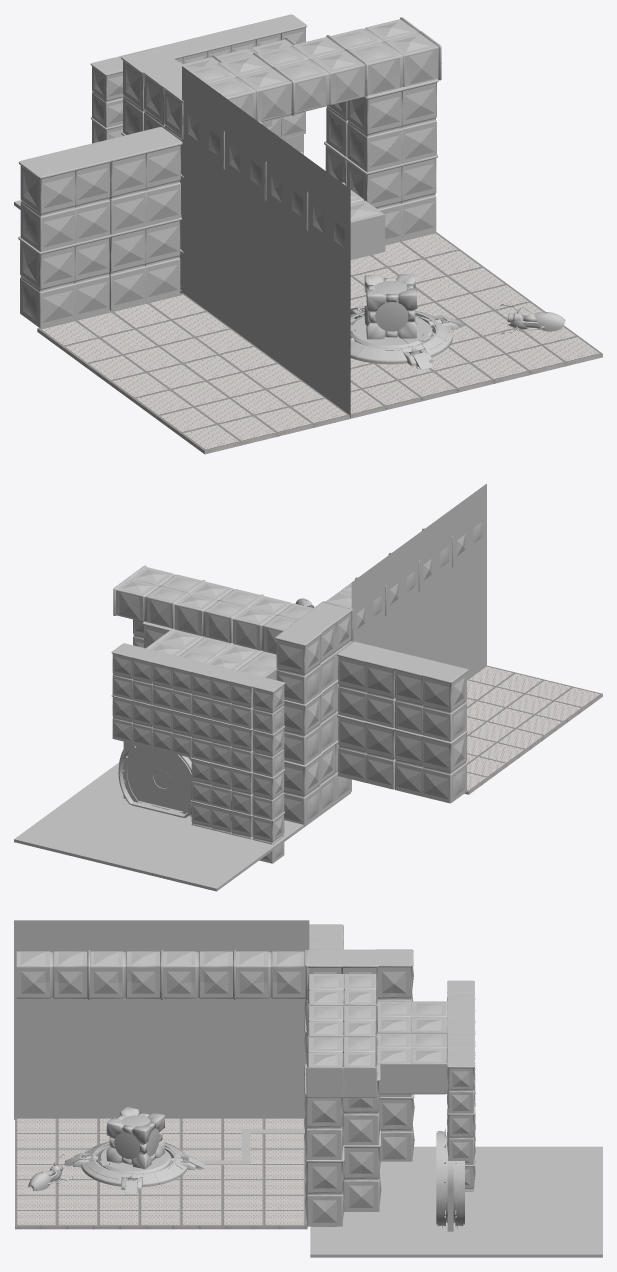
File: floor1old.obj
The picture shows the model from 3 angles, top to bottom: view 1: azimuth 30°, elevation 25°; view 2: azimuth 150°, elevation 25°; view 3: azimuth 270°, elevation 25°; orthographic projection. The views are drawn at different scales.
Parts seen in each view (by area): view 1: Cube.001, Plane, Box001.060, Box001.059, Box001.002, Box001.010, Box001.011, Box001.056, Box001.058, Box001.054, Box001.012, portal_button_reduced_2 (+27 smaller); view 2: Plane, Cube.002, Cube.001, Object_8, Box001.060, Box001.047, Box001.059, Box001.014, Box001.015, Box001.054, Box001.028, Box001.027 (+40 smaller); view 3: Plane, Cube.001, Cube.002, Box001.029, Box001.025, Box001.024, Box001.023, portal_button_reduced_2, Box001, Box001.020, Box001.003, Object_8 (+23 smaller).
Boxes of the visible parts, x1=… form: Cube.001: x1=37, y1=231, x2=602, y2=454; Plane: x1=182, y1=66, x2=350, y2=417; Box001.060: x1=18, y1=152, x2=76, y2=251; Box001.059: x1=18, y1=236, x2=75, y2=327; Box001.002: x1=347, y1=88, x2=402, y2=172; Box001.010: x1=349, y1=31, x2=441, y2=95; Box001.011: x1=276, y1=48, x2=367, y2=113; Box001.056: x1=90, y1=135, x2=146, y2=234; Box001.058: x1=54, y1=144, x2=111, y2=243; Box001.054: x1=125, y1=127, x2=182, y2=226; Box001.012: x1=210, y1=66, x2=294, y2=121; portal_button_reduced_2: x1=350, y1=306, x2=464, y2=369; Plane: x1=351, y1=483, x2=486, y2=679; Cube.002: x1=14, y1=762, x2=350, y2=891; Cube.001: x1=261, y1=650, x2=602, y2=794; Object_8: x1=118, y1=741, x2=191, y2=817; Box001.060: x1=422, y1=662, x2=468, y2=741; Box001.047: x1=275, y1=625, x2=322, y2=704; Box001.059: x1=422, y1=730, x2=468, y2=803; Box001.014: x1=113, y1=577, x2=185, y2=628; Box001.015: x1=172, y1=591, x2=244, y2=642; Box001.054: x1=337, y1=641, x2=382, y2=721; Box001.028: x1=284, y1=692, x2=322, y2=765; Box001.027: x1=283, y1=753, x2=322, y2=826; Plane: x1=14, y1=920, x2=309, y2=1119; Cube.001: x1=15, y1=1118, x2=307, y2=1229; Cube.002: x1=310, y1=1146, x2=602, y2=1257; Box001.029: x1=16, y1=950, x2=90, y2=999; Box001.025: x1=90, y1=950, x2=162, y2=999; Box001.024: x1=163, y1=950, x2=235, y2=999; Box001.023: x1=236, y1=950, x2=308, y2=999; portal_button_reduced_2: x1=64, y1=1141, x2=204, y2=1194; Box001: x1=305, y1=1145, x2=344, y2=1226; Box001.020: x1=343, y1=1130, x2=381, y2=1211; Box001.003: x1=304, y1=1079, x2=344, y2=1159; Object_8: x1=436, y1=1128, x2=464, y2=1231.
Bounding box in the file's own units: 11.12 × 7.43 × 16.04.
